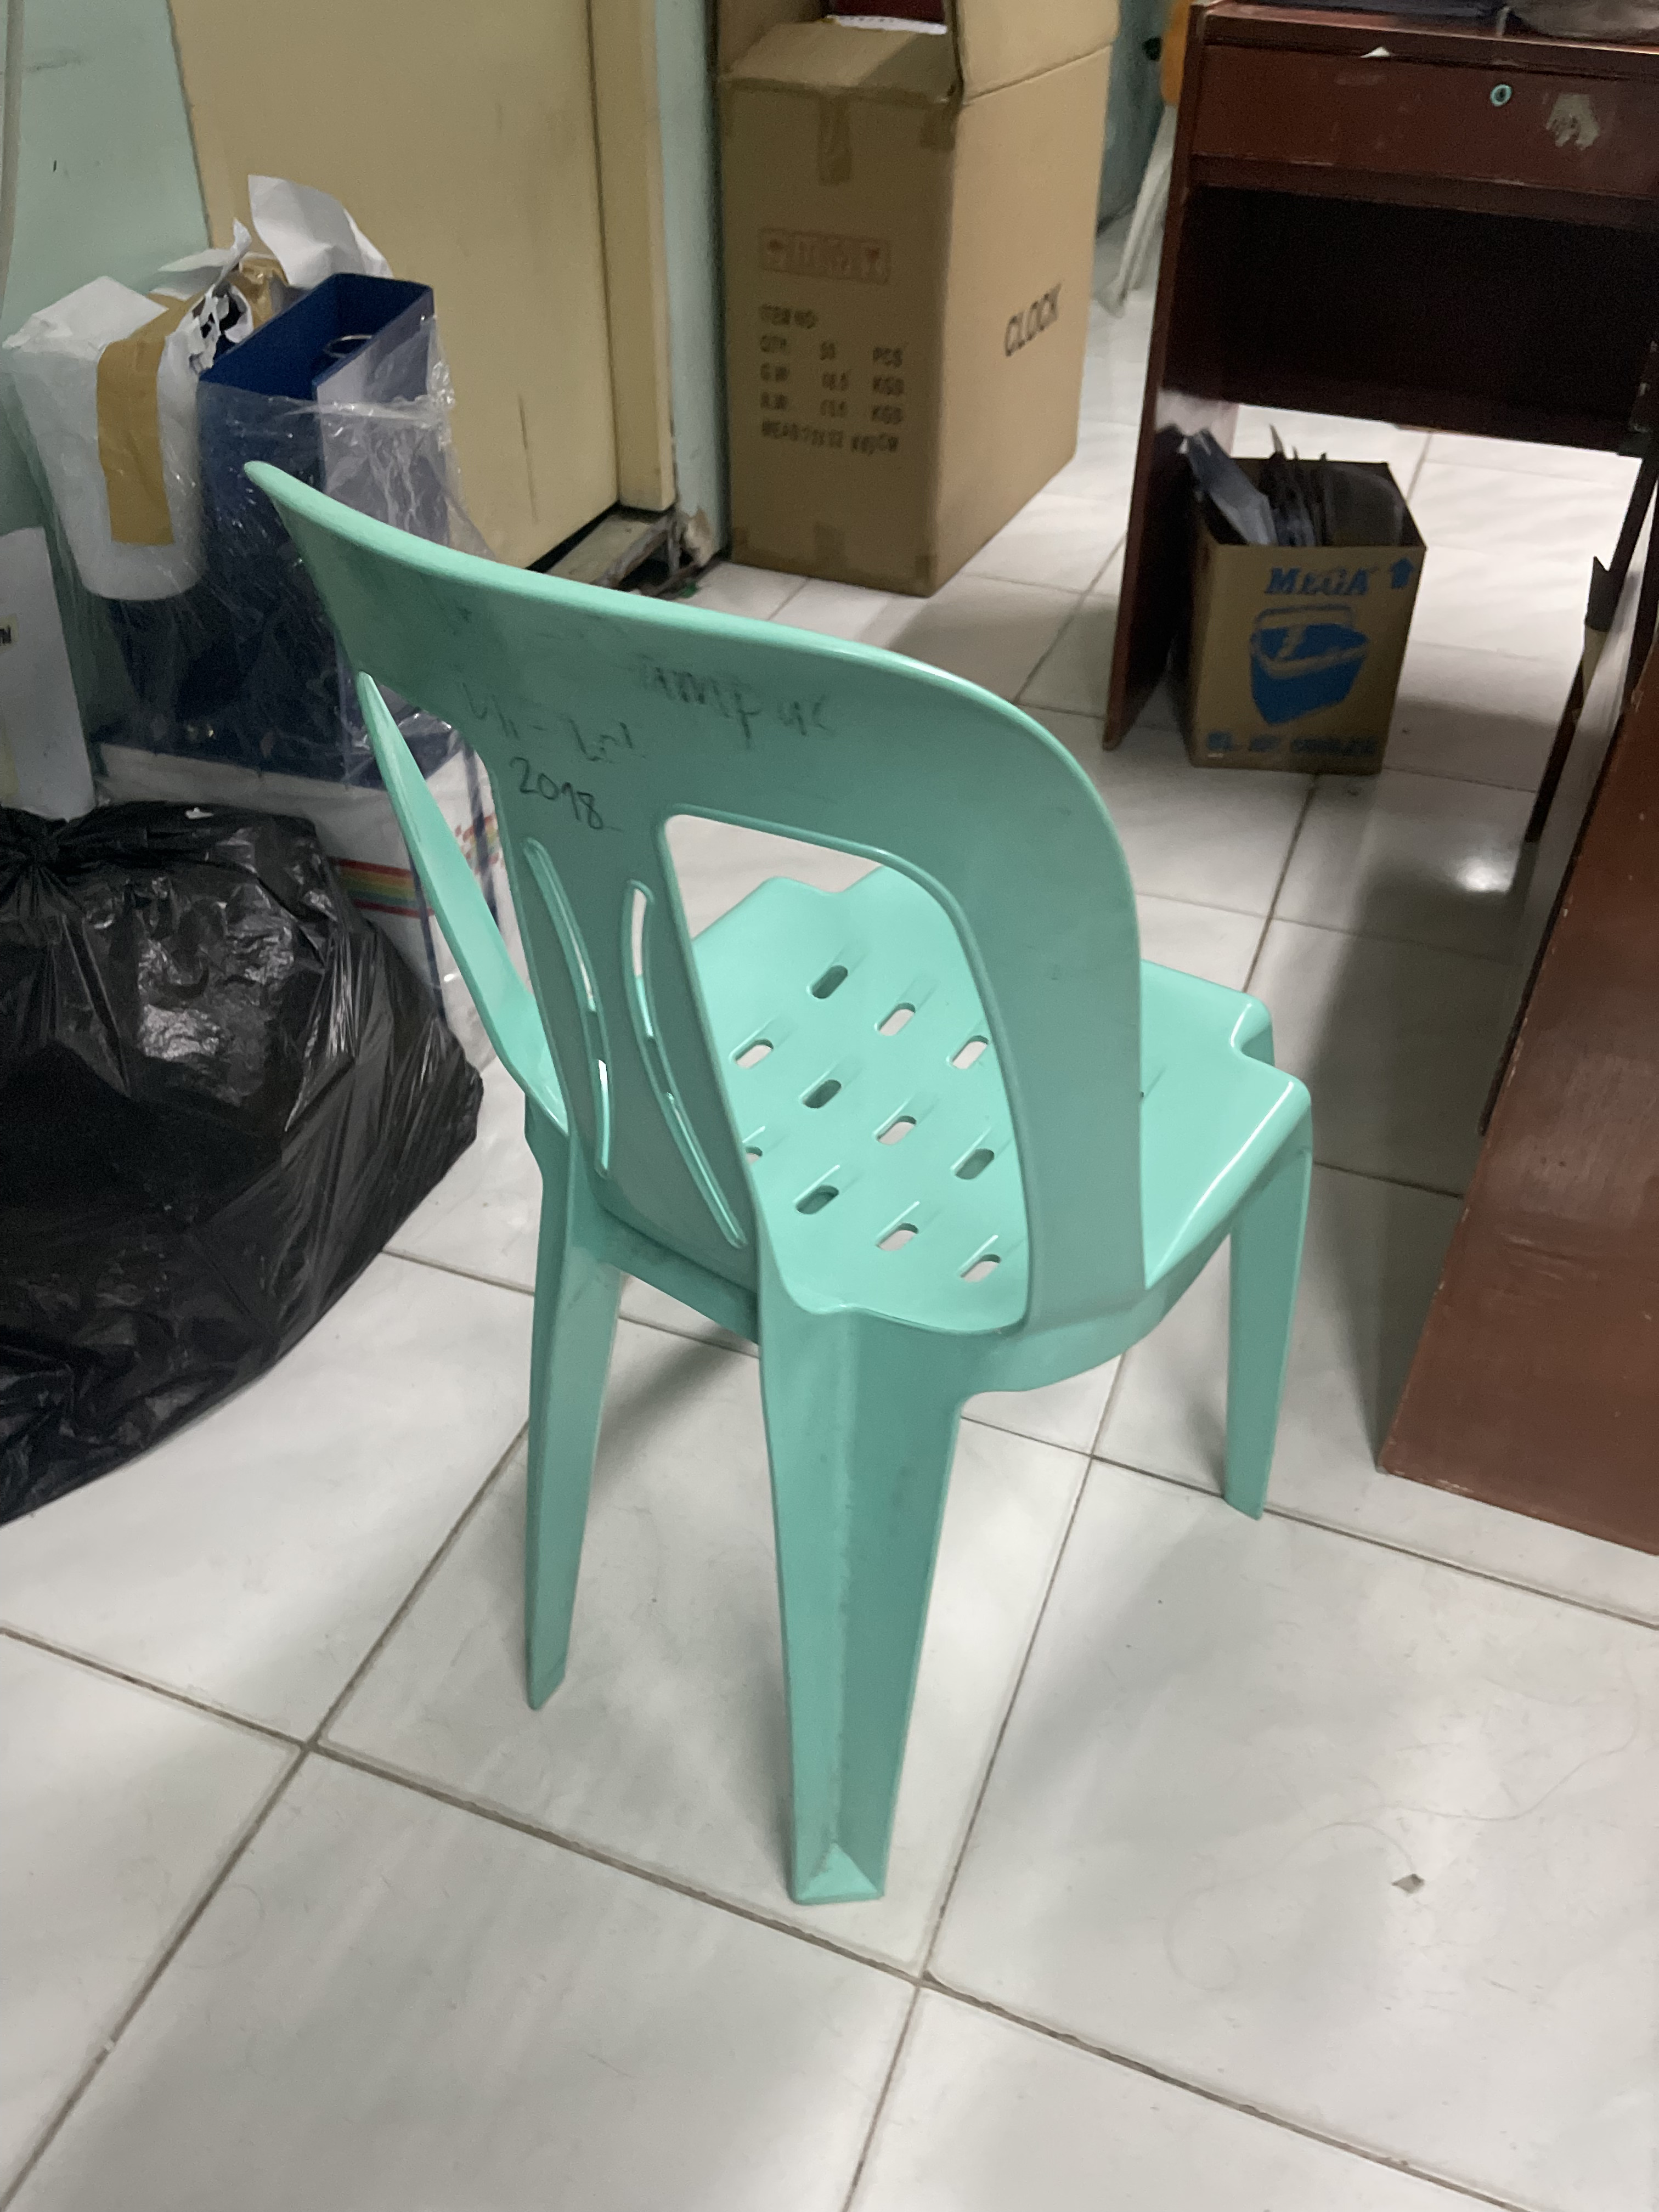chair2: (240, 453, 1323, 1928)
